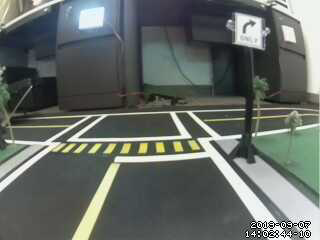Right_only_sign: (234, 12, 266, 51)
